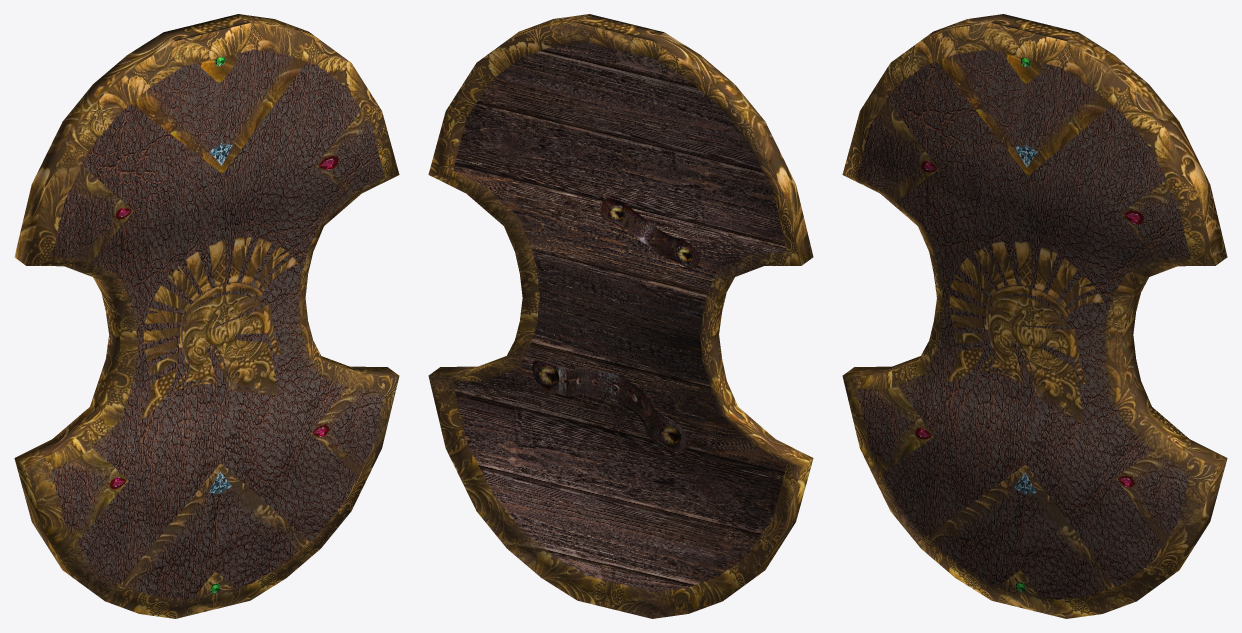
File: Shield.fbx
The picture shows the model from 3 angles, left to right: view 1: azimuth 30°, elevation 25°; view 2: azimuth 150°, elevation 25°; view 3: azimuth 330°, elevation 25°; orthographic projection.
Visible parts, largest first — view 1: Shield; view 2: Shield; view 3: Shield.
Boxes of the visible parts, x1,y1,x2,y2 form: Shield: (14,14,399,618); Shield: (428,14,813,618); Shield: (842,14,1227,618).
Size of the model in its own units: 39.74 by 58.8 by 3.28.
